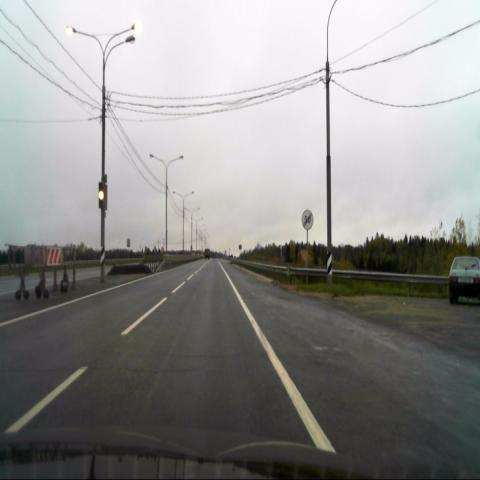3_25: (301, 209, 314, 230)
